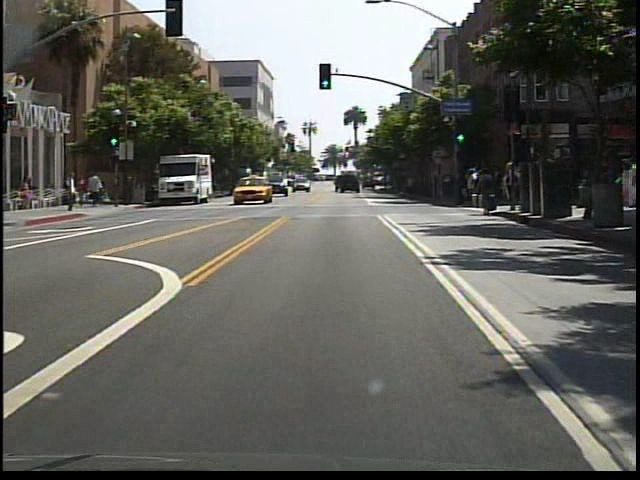person: (473, 163, 496, 219), (64, 169, 81, 214), (19, 175, 37, 214), (89, 168, 105, 206), (77, 174, 89, 206)
